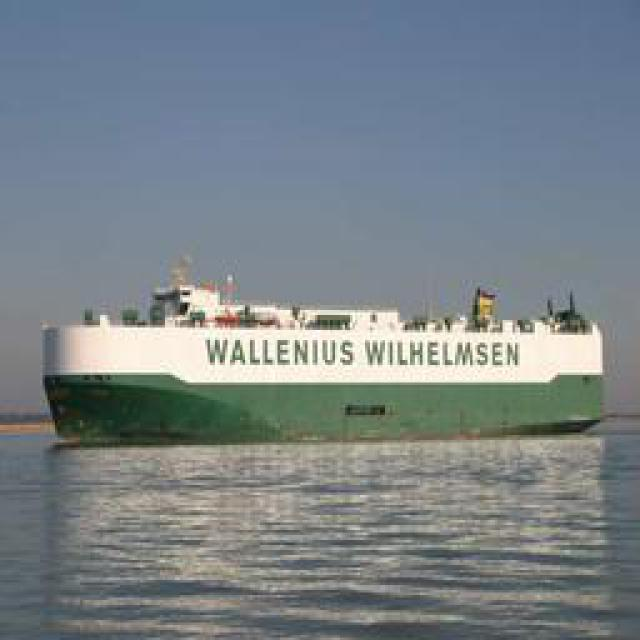Ship: (1, 280, 604, 444)
